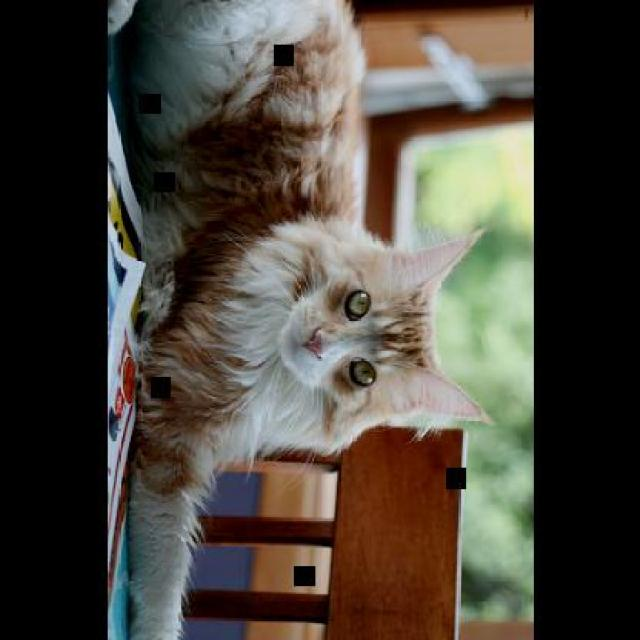unauthorized: (103, 0, 494, 638)
